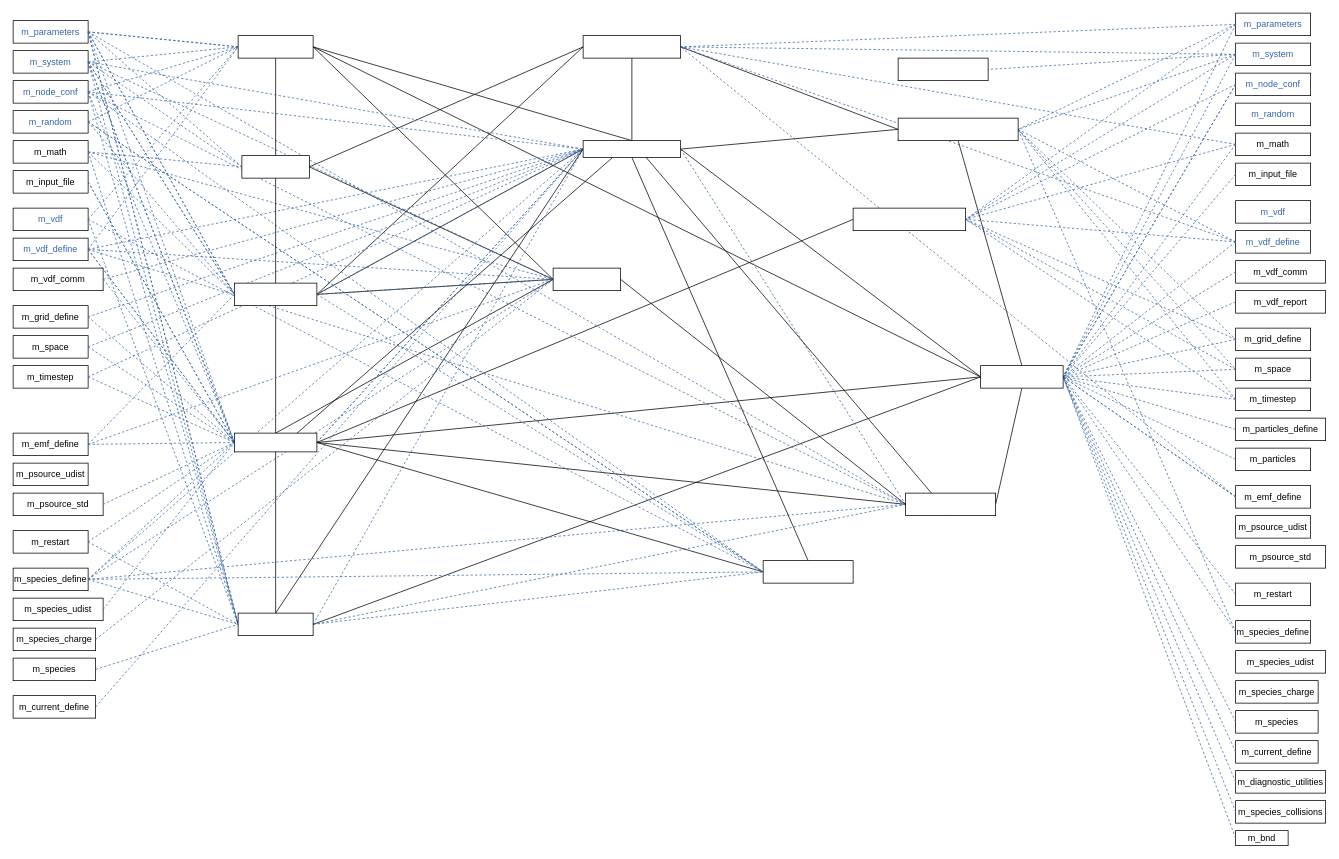
The diagram is 1339 pixels wide and 859 high, and some of its shapes have lost their labels. The centre of each missing label's shape, as x and y in pixels:
"m_betheheitler" goes at [950,504].
"m_bremsstrahlung" goes at [807,571].
"m_mergedel" goes at [275,624].
"m_particles_qed" goes at [1021,376].
"m_photons" goes at [586,279].
"m_photons_define" goes at [275,442].
"m_photons_diagnostics" goes at [909,219].
"m_qed" goes at [275,166].
"m_qed_collide" goes at [275,46].
"m_qed_coulomb" goes at [275,294].
"m_simulation_qed" goes at [942,69].
"m_species_define_qed" goes at [631,149].
"m_species_diagnostics_qed" goes at [957,129].
"m_species_push_qed" goes at [631,46].
